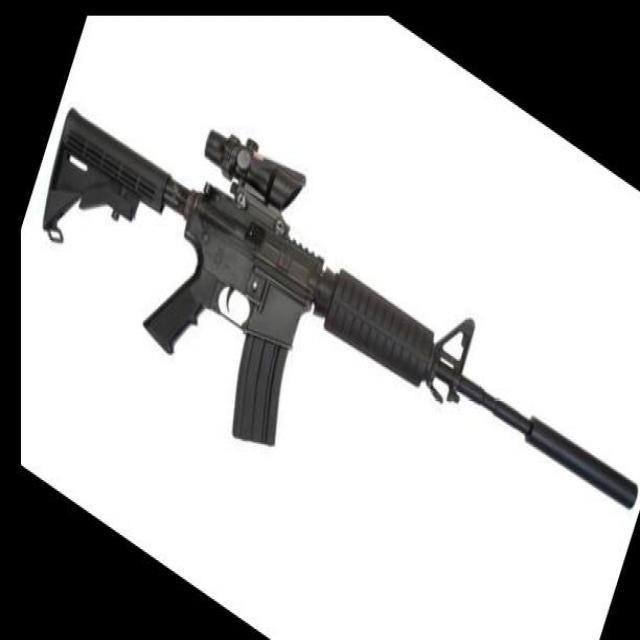weapon: (42, 106, 639, 509)
